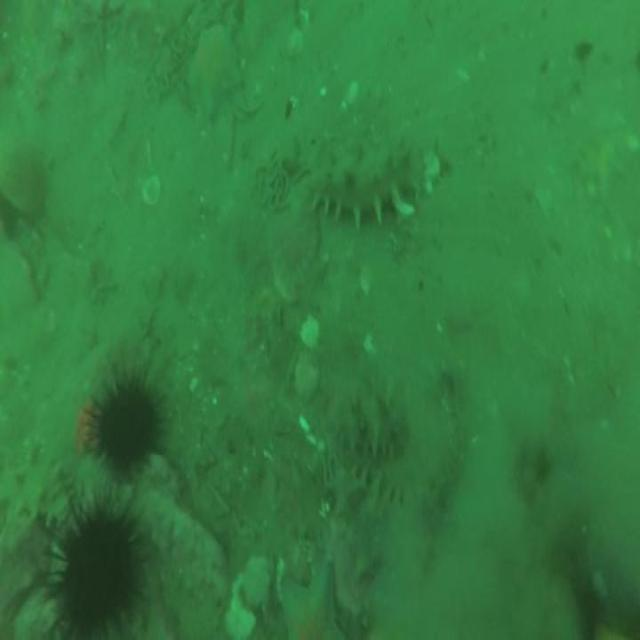echinus: (62, 512, 135, 631), (97, 386, 157, 466)
holothurian: (308, 139, 414, 223), (423, 378, 465, 514), (325, 466, 399, 541), (326, 388, 399, 454)
starfish: (278, 559, 342, 640), (183, 29, 242, 110)
